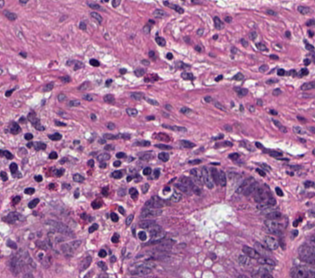nucleus: (47, 220, 72, 235), (180, 177, 199, 193), (254, 187, 270, 205), (264, 219, 285, 232), (201, 167, 213, 188), (144, 196, 164, 208), (243, 180, 258, 195), (237, 178, 253, 192), (190, 168, 202, 186), (140, 207, 161, 217), (264, 236, 278, 249), (157, 239, 173, 250), (272, 119, 286, 131), (163, 124, 185, 131), (147, 223, 161, 234), (139, 220, 155, 229), (213, 16, 223, 29), (175, 182, 188, 192), (210, 167, 218, 183), (265, 211, 281, 219), (139, 151, 153, 160), (90, 12, 102, 22), (69, 240, 81, 250), (170, 4, 183, 13), (87, 1, 101, 9), (130, 92, 144, 100), (180, 140, 194, 148), (297, 5, 309, 14), (72, 173, 84, 182), (153, 9, 166, 17), (301, 81, 314, 89), (234, 87, 247, 95), (293, 126, 306, 134), (156, 133, 169, 141), (171, 191, 181, 201), (78, 81, 89, 90), (91, 199, 102, 208), (181, 72, 193, 80), (97, 153, 109, 161), (145, 98, 158, 105), (48, 133, 61, 140), (155, 36, 165, 45), (73, 61, 83, 70), (104, 94, 114, 103), (158, 152, 168, 161), (219, 171, 225, 186), (28, 198, 38, 207), (256, 43, 267, 51), (214, 102, 225, 110), (126, 108, 137, 116), (111, 170, 122, 178), (129, 188, 137, 199), (125, 214, 133, 225), (304, 41, 313, 50), (88, 223, 97, 232), (134, 68, 144, 76), (233, 72, 243, 80), (43, 82, 53, 90), (155, 144, 171, 149), (176, 62, 189, 68), (67, 100, 80, 106), (34, 142, 45, 149), (266, 151, 281, 156), (299, 68, 308, 76), (138, 231, 146, 240), (249, 30, 256, 40), (104, 134, 118, 139), (135, 141, 149, 146), (180, 107, 191, 113), (54, 120, 65, 126), (57, 93, 65, 101), (215, 142, 231, 146), (90, 59, 99, 66), (272, 88, 281, 95), (256, 168, 265, 175), (111, 233, 118, 242), (266, 9, 276, 15), (118, 134, 130, 139), (112, 0, 120, 7), (240, 38, 247, 46), (259, 64, 267, 71), (143, 167, 151, 174), (55, 169, 63, 176), (275, 187, 282, 195), (111, 213, 118, 221), (189, 159, 200, 164), (79, 21, 85, 30), (60, 76, 69, 82), (83, 94, 92, 100), (116, 152, 125, 158), (229, 153, 238, 159), (153, 169, 159, 178), (304, 181, 313, 187), (142, 184, 148, 193), (195, 45, 202, 52), (107, 122, 114, 129), (293, 219, 300, 226), (277, 69, 285, 75), (204, 96, 212, 102), (34, 175, 42, 181), (48, 183, 56, 189), (306, 19, 313, 25), (143, 25, 149, 32), (215, 75, 222, 81), (247, 105, 254, 111), (255, 142, 262, 148), (49, 152, 56, 158), (118, 188, 124, 195), (266, 79, 276, 83), (297, 116, 305, 121), (102, 187, 107, 195), (225, 16, 231, 22), (166, 53, 172, 59), (304, 59, 310, 65), (105, 79, 111, 85), (256, 99, 262, 105), (100, 162, 106, 168), (288, 70, 295, 75), (224, 125, 231, 130), (88, 159, 93, 166), (113, 161, 120, 166), (214, 134, 222, 138), (105, 145, 113, 149), (74, 189, 78, 197), (197, 29, 202, 35), (308, 30, 313, 36), (285, 31, 290, 37), (149, 51, 154, 57), (142, 60, 148, 65), (165, 104, 171, 109), (60, 158, 66, 163), (126, 176, 132, 181), (119, 207, 124, 213), (270, 55, 277, 59), (269, 110, 276, 114), (164, 186, 169, 191), (163, 1, 169, 5), (91, 114, 95, 120), (310, 126, 314, 132), (147, 116, 154, 119), (62, 184, 69, 187), (120, 69, 125, 73), (213, 35, 217, 39), (293, 231, 297, 235), (310, 210, 313, 215)
